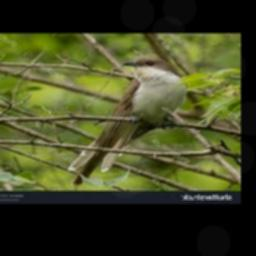Cuckoo: (69, 56, 184, 185)
